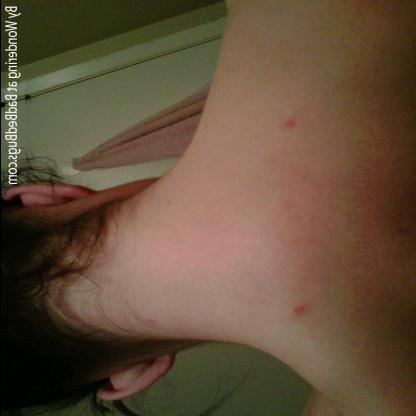Bed Bug: (285, 300, 312, 318), (274, 116, 298, 133), (388, 220, 410, 238), (136, 314, 159, 326)
